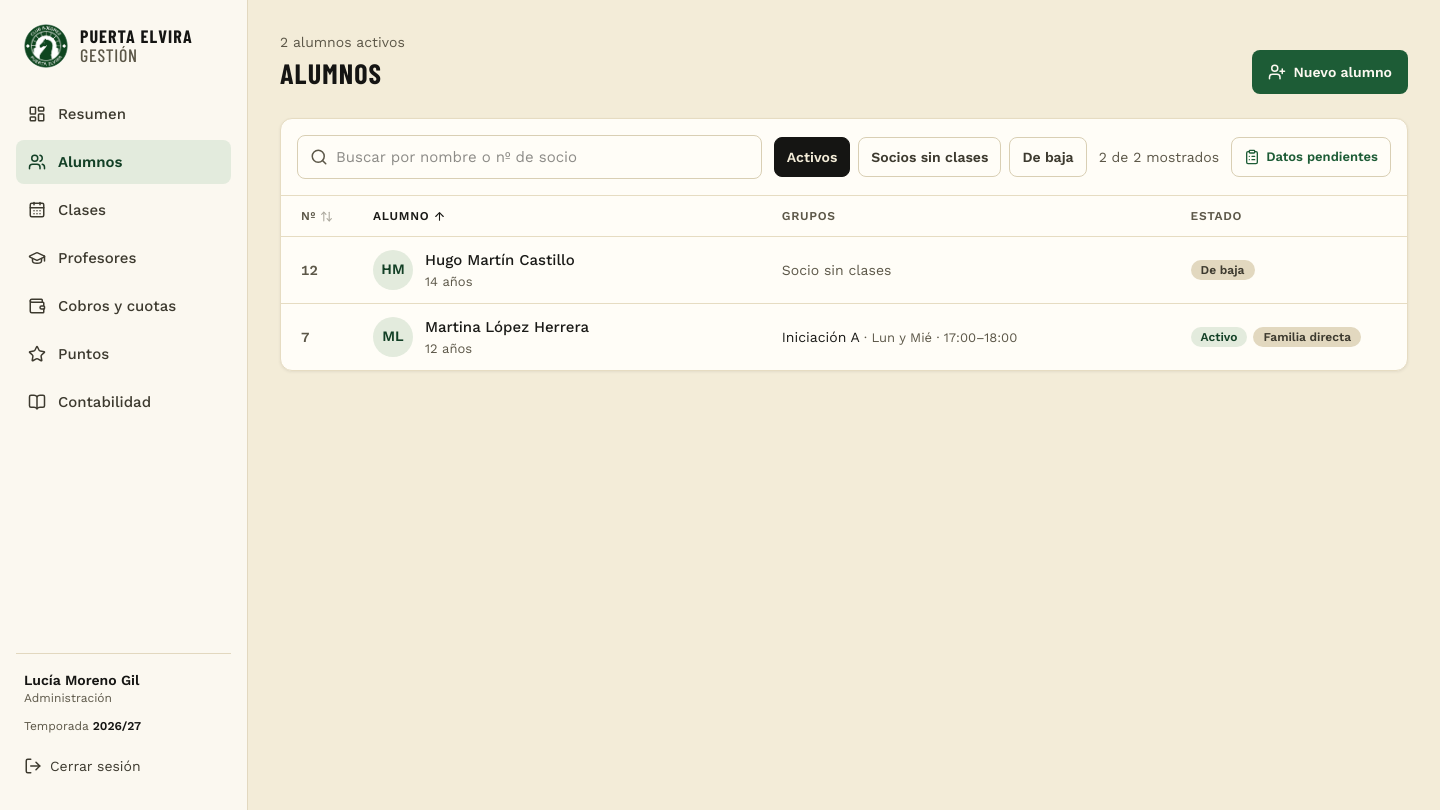
Test: Alumnos › should list students with their groups and status, and filter them
Expected: the button "Martina López Herrera" shows "Iniciación A", [281,304,1407,370]
Expected: the text "2 de 2 mostrados" is shown, [1099,147,1219,167]
Click the button "De baja" at (1048, 157), box [1009,137,1087,177]
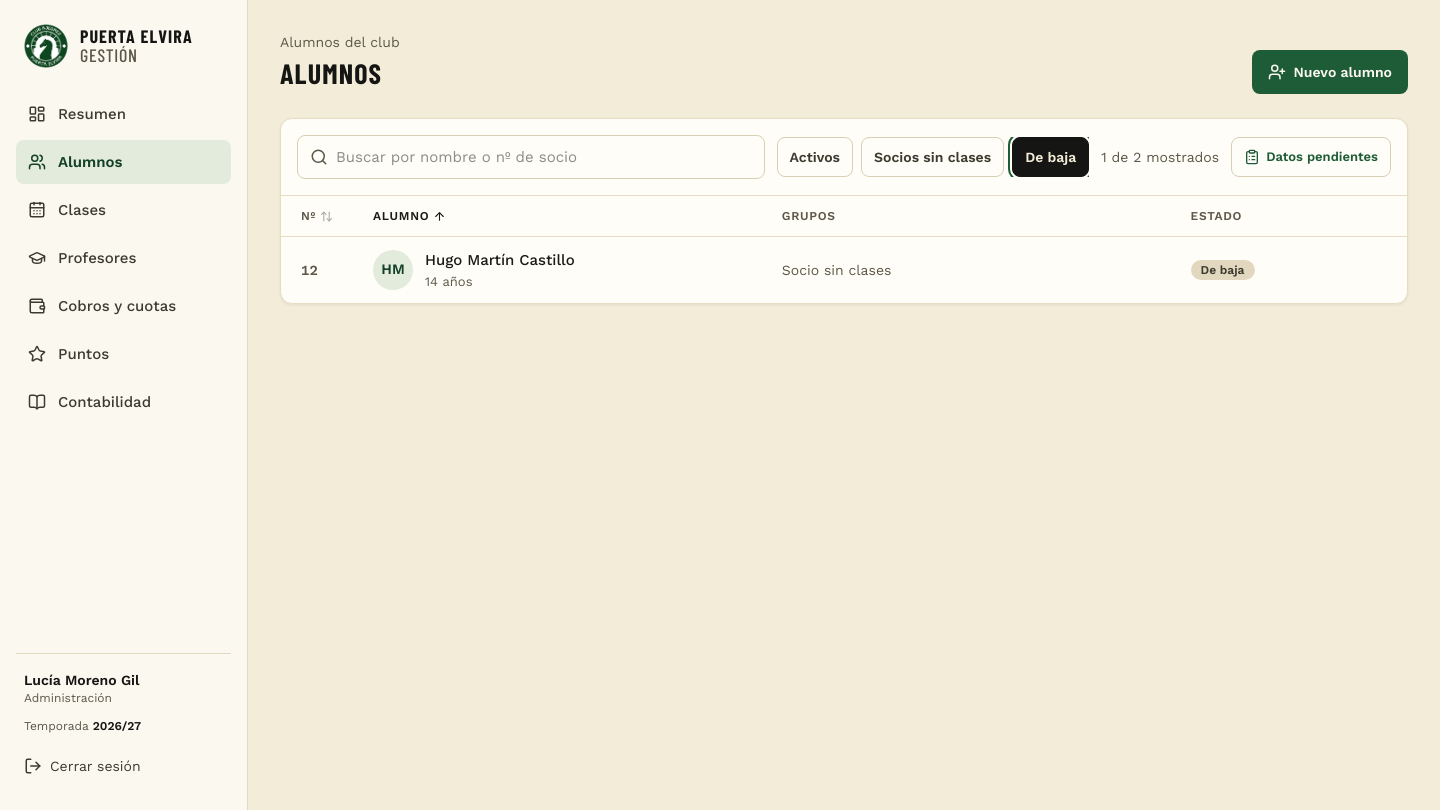
Now the text "1 de 2 mostrados" is shown, box [1101,147,1219,167]
Now the button "Martina" is gone
